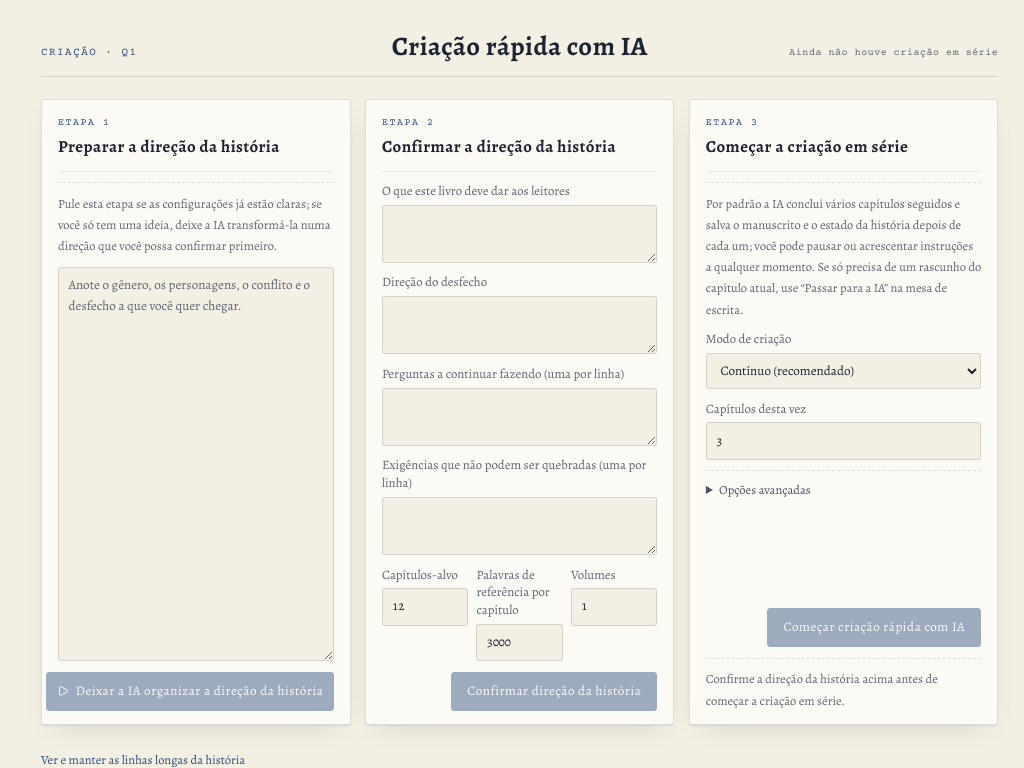
autopilot › a cleared number input is not filled with 0 and returns to a valid value on blur
This screenshot has width=1024, height=768.
Clear the number field labelled "Capítulos-alvo" at [425, 607], box [382,588,468,626]
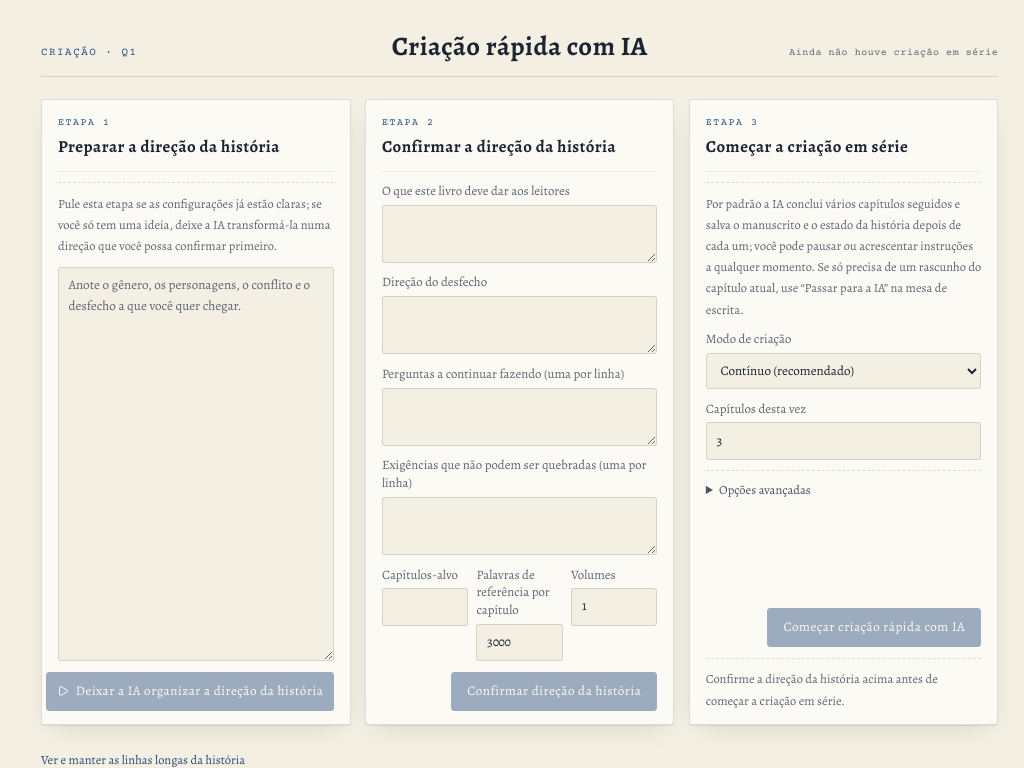
Leave the number field labelled "Capítulos-alvo", box [382,588,468,626]
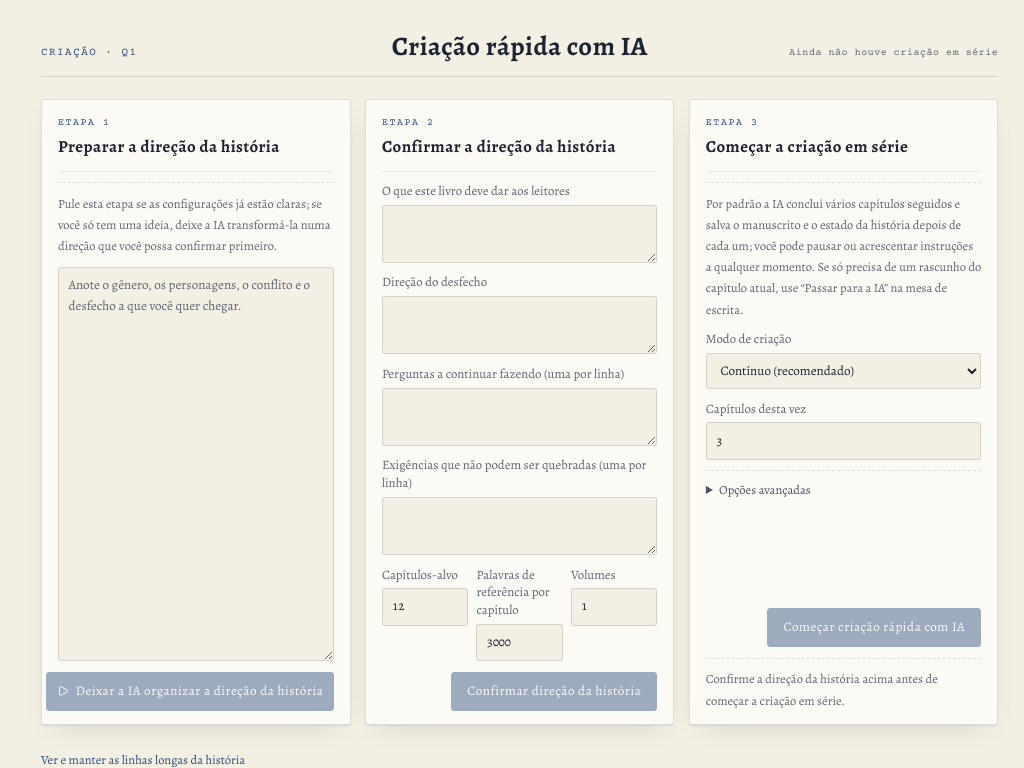
Now the number field labelled "Capítulos-alvo" holds "12", box [382,588,468,626]
